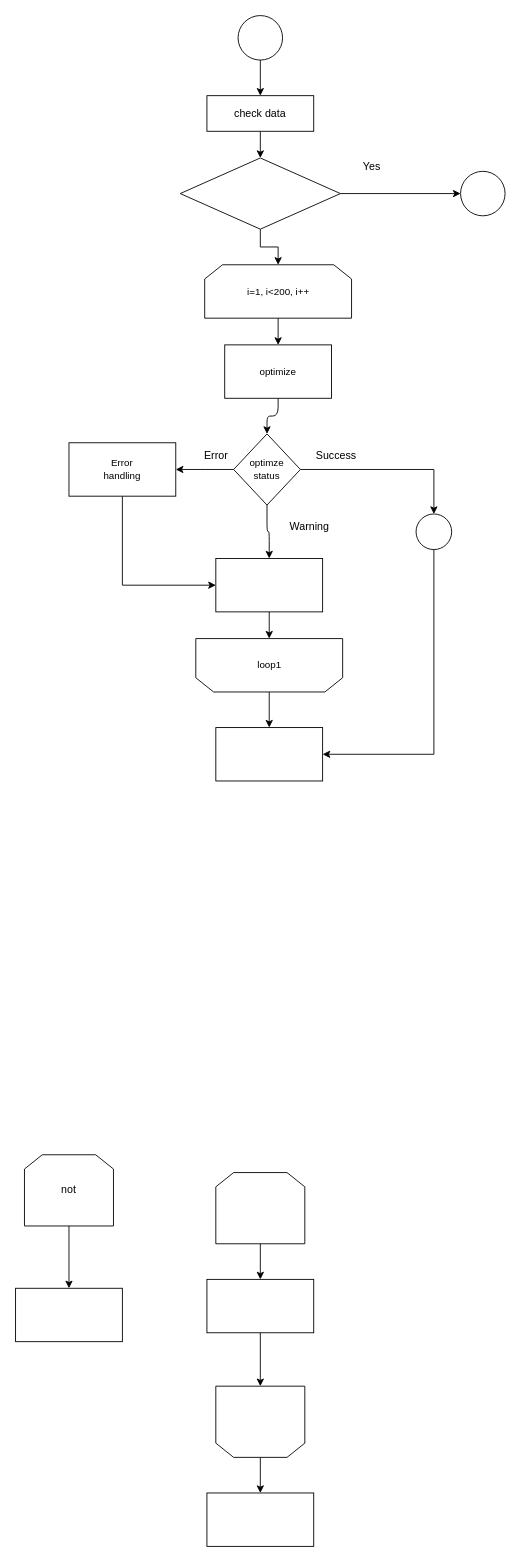
The diagram is 521 pixels wide and 1562 high, and some of its shapes have lost their labels. The shapes that lost their labels are listed below. From the top down, each one's box as (x1, y1, x2, y2) in pixels, then its label:
(179, 157, 340, 229): Is Error?
(215, 558, 323, 612): remodeling
(215, 727, 323, 781): post-process
